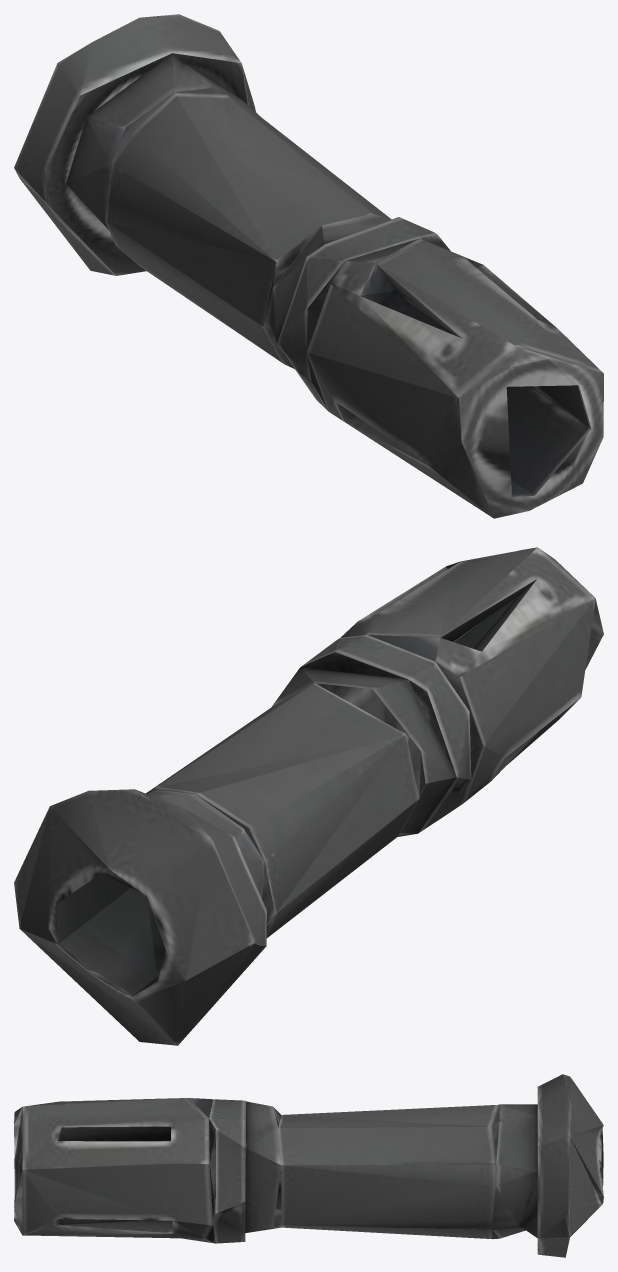
The model's file is imperial_point_defence_turret__barrel_lod2.glb.
3 views of the same model, one above another, from view 1: azimuth 30°, elevation 25°; view 2: azimuth 150°, elevation 25°; view 3: azimuth 270°, elevation 25° (orthographic). The views are drawn at different scales.
Parts seen in each view (by area): view 1: mesh_node; view 2: mesh_node; view 3: mesh_node.
Boxes of the visible parts, x1,y1,x2,y2 form: mesh_node: (14,14,603,518); mesh_node: (14,547,603,1045); mesh_node: (14,1074,603,1257).
Size of the model in its own units: 0.8209 by 0.8212 by 2.5.
1 material, 1 textured.
